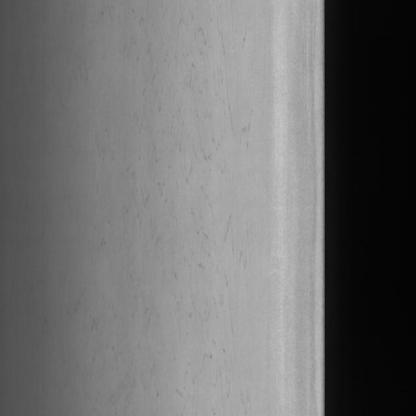silk_spot: (128, 22, 256, 336)
